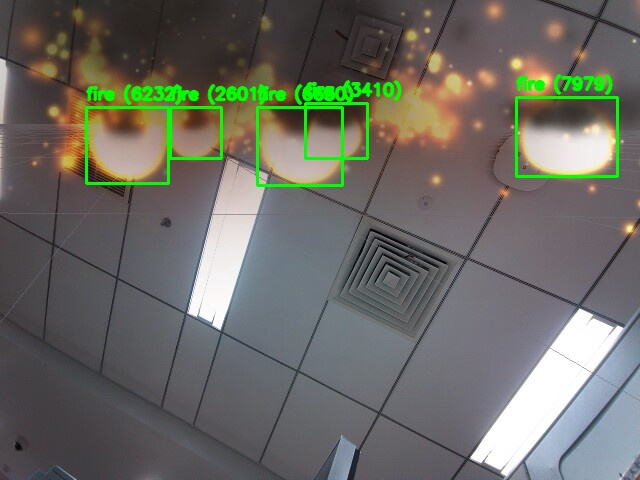fire: (516, 97, 617, 176), (257, 107, 342, 185), (86, 107, 168, 183), (305, 103, 367, 158), (170, 107, 221, 158)
